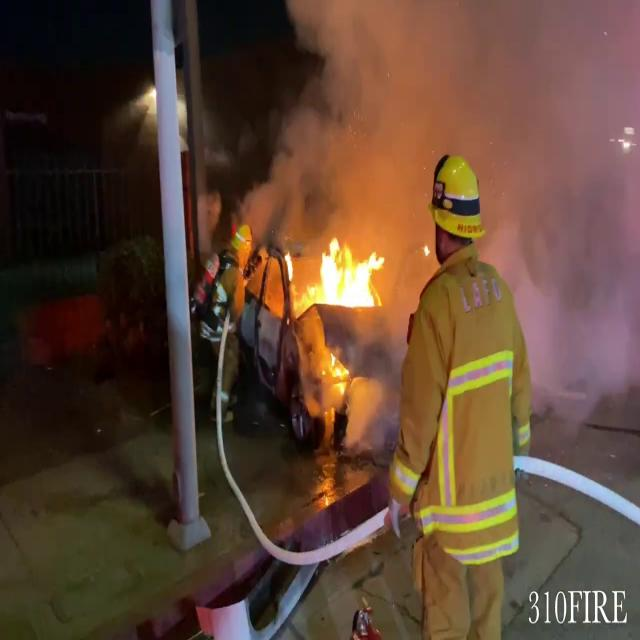Fire: (305, 233, 391, 313)
Smoke: (246, 1, 638, 235)
